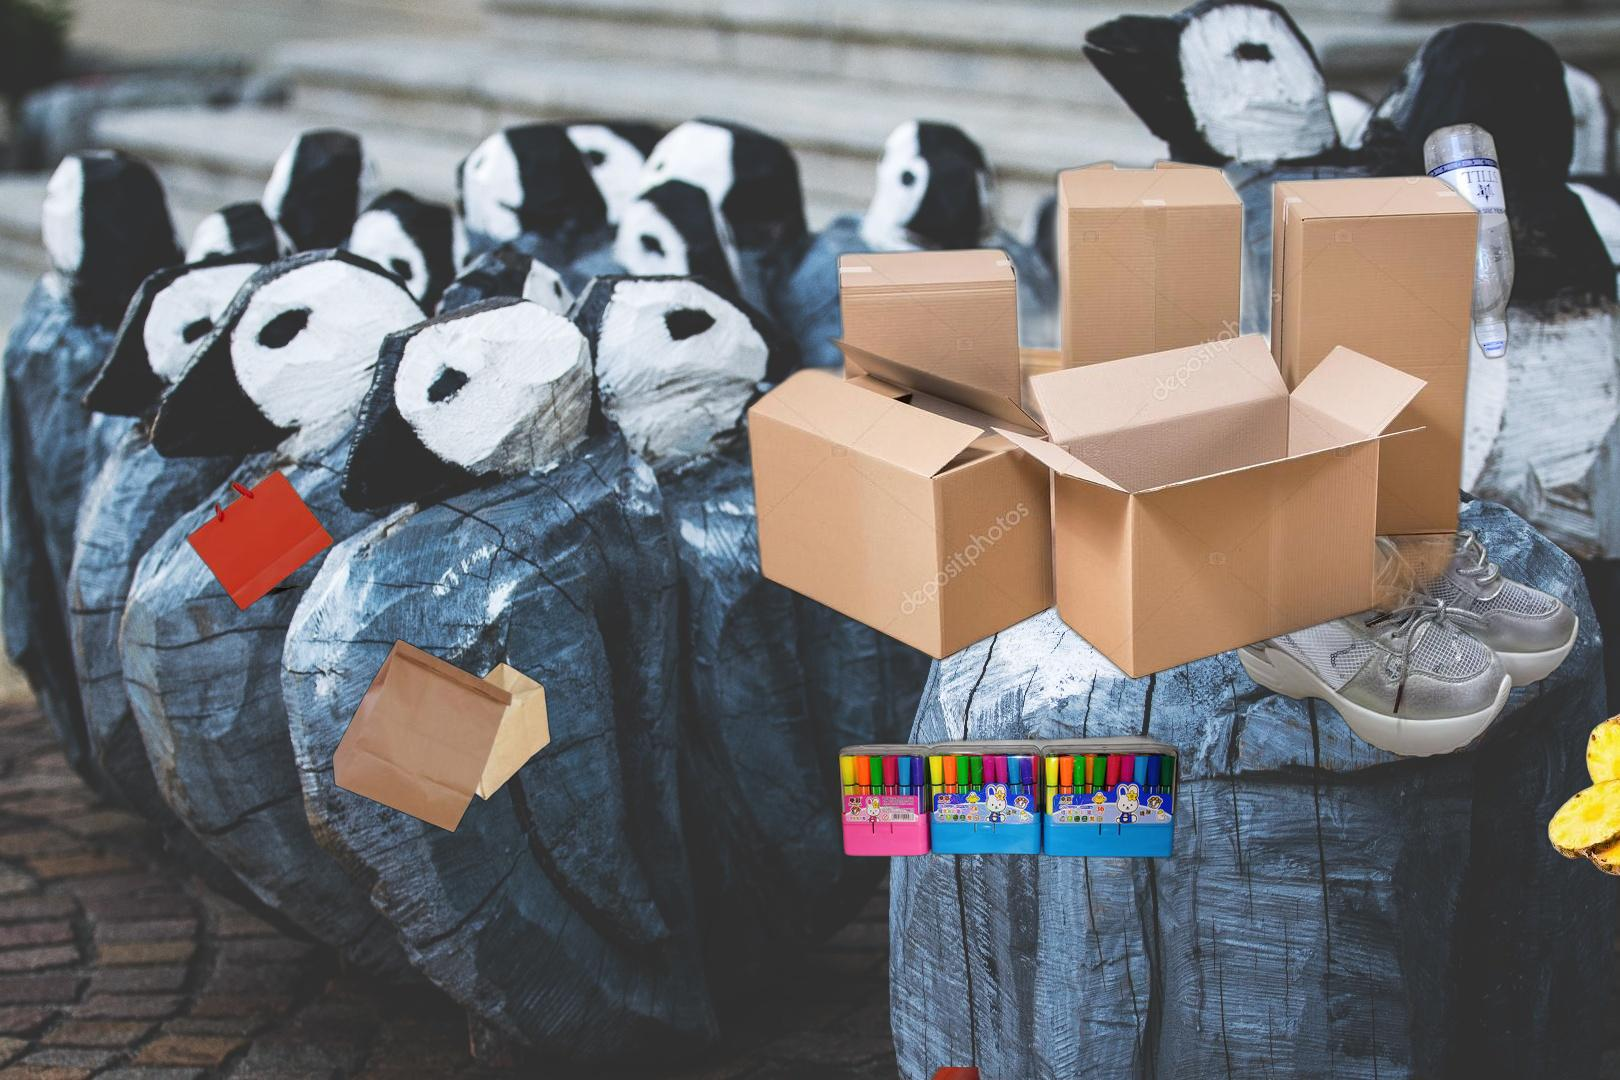biological: (1545, 695, 1620, 877)
paper-bag: (297, 554, 552, 837), (184, 454, 336, 614)
penholder: (835, 730, 1182, 861), (648, 1067, 1589, 1080)
plastic-bottles: (1417, 116, 1519, 364)
shoes: (1193, 451, 1592, 763)
trashbox-cardboard: (738, 137, 1490, 687)
